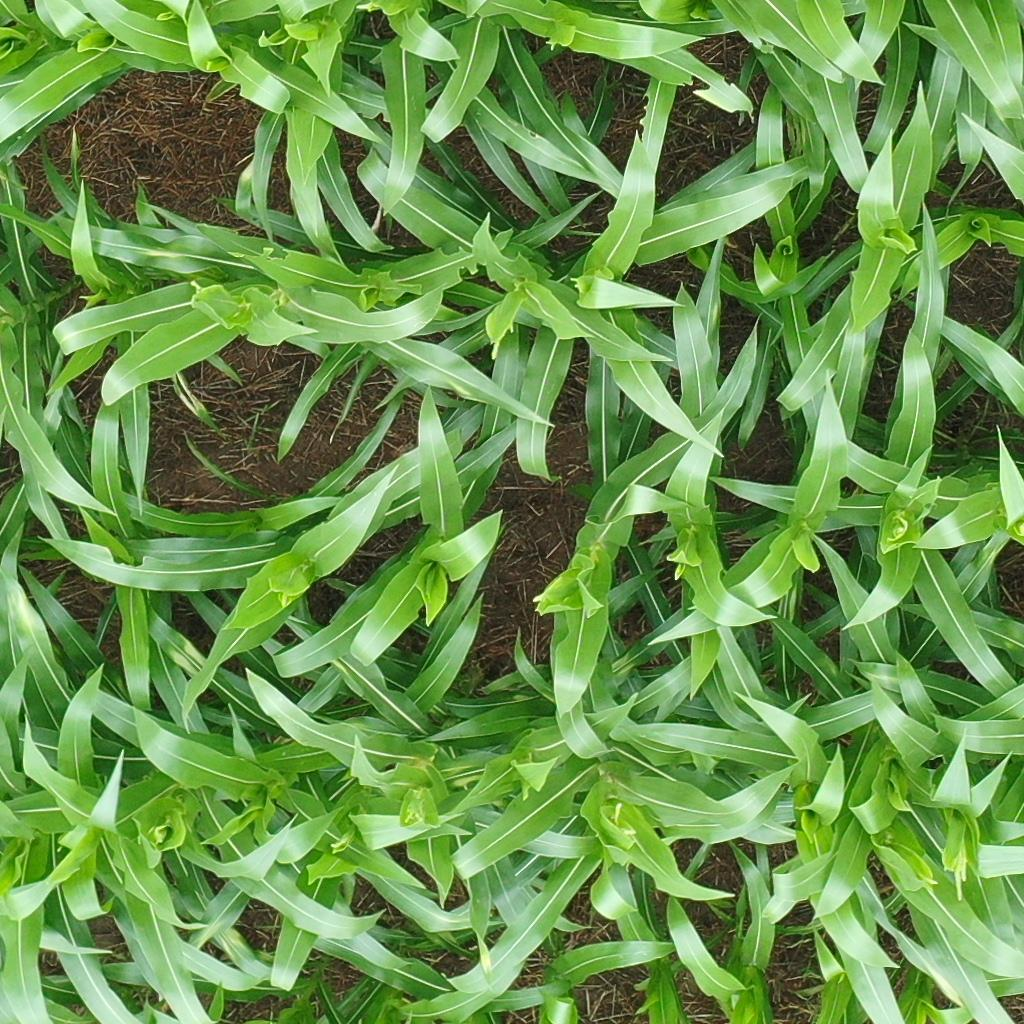Tassel: (941, 831, 978, 903), (485, 318, 517, 365), (395, 788, 430, 827)
